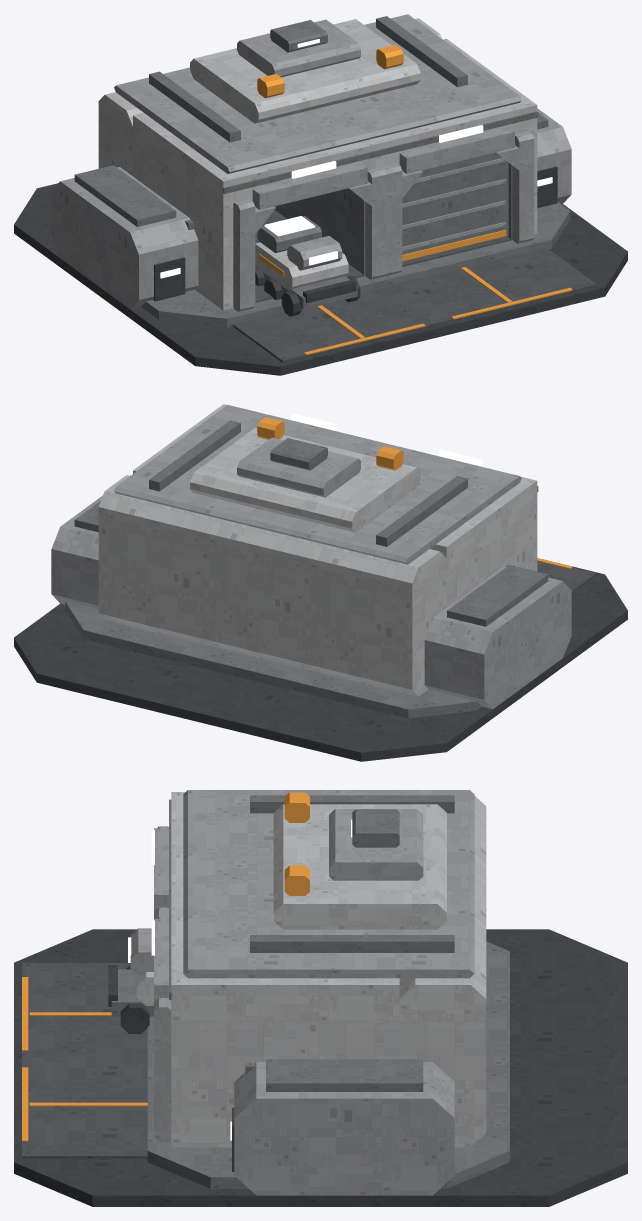
File: resourceBay_lod1.glb
3 renders of one model, top to bottom at view 1: azimuth 30°, elevation 25°; view 2: azimuth 150°, elevation 25°; view 3: azimuth 270°, elevation 25°, orthographic. The views are drawn at different scales.
Visible parts, largest first — view 1: resourceBay_base_body.001, resourceBay_door_body.001, resourceBay_harvester_body.001, resourceBay_base_trim.001, resourceBay_base_glow.001, resourceBay_harvester_glow.001, resourceBay_door_trim.001; view 2: resourceBay_base_body.001, resourceBay_base_trim.001, resourceBay_base_glow.001; view 3: resourceBay_base_body.001, resourceBay_harvester_body.001, resourceBay_base_trim.001.
Part boxes in pixels (box(x1,y1,x2,y2)): resourceBay_base_body.001: box(14, 14, 627, 375); resourceBay_door_body.001: box(402, 152, 508, 262); resourceBay_harvester_body.001: box(255, 216, 360, 316); resourceBay_base_trim.001: box(257, 44, 572, 354); resourceBay_base_glow.001: box(160, 39, 552, 278); resourceBay_harvester_glow.001: box(264, 216, 337, 265); resourceBay_door_trim.001: box(402, 230, 506, 261); resourceBay_base_body.001: box(14, 404, 627, 761); resourceBay_base_trim.001: box(257, 417, 572, 568); resourceBay_base_glow.001: box(291, 413, 483, 466); resourceBay_base_body.001: box(14, 790, 627, 1206); resourceBay_harvester_body.001: box(108, 928, 153, 1033); resourceBay_base_trim.001: box(22, 792, 309, 1141).
Bounding box in the file's own units: 4 × 1.77 × 3.9.
3 materials, 1 textured.
